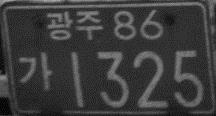1: (69, 50, 86, 108)
2: (132, 51, 168, 109)
3: (96, 50, 130, 107)
5: (173, 50, 204, 107)
6: (140, 7, 163, 41)
8: (113, 10, 137, 40)
가: (17, 52, 53, 92)
광주_O: (45, 8, 103, 41)
